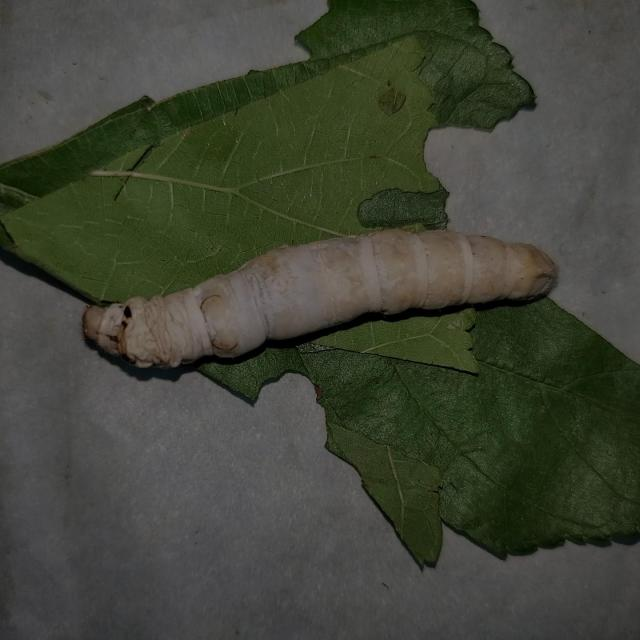Grasserie: (72, 215, 574, 388)
